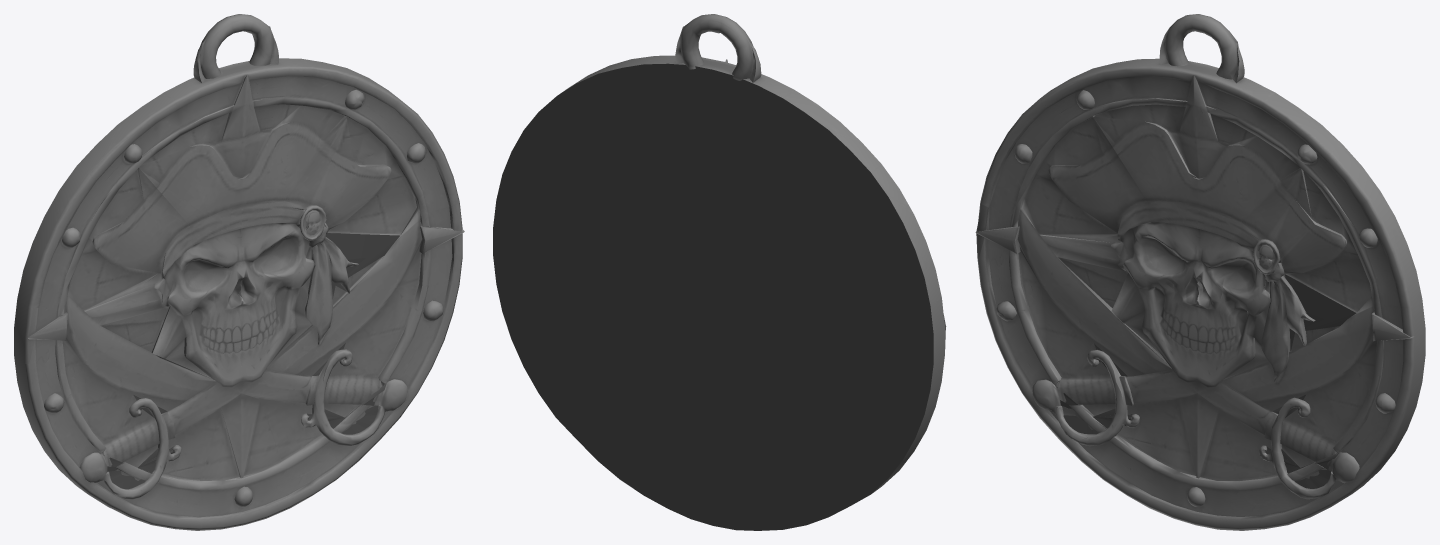
File: iron_korsan.glb
The picture shows the model from 3 angles, left to right: view 1: azimuth 30°, elevation 25°; view 2: azimuth 150°, elevation 25°; view 3: azimuth 330°, elevation 25°; orthographic projection.
Visible parts, largest first — view 1: iron_korsan_AO_candidate; view 2: iron_korsan_AO_candidate; view 3: iron_korsan_AO_candidate.
Part boxes in pixels (x1,y1,x2,y2): iron_korsan_AO_candidate: (14, 14, 464, 530); iron_korsan_AO_candidate: (493, 14, 946, 530); iron_korsan_AO_candidate: (975, 14, 1425, 530).
Size of the model in its own units: 0.9081 by 1 by 0.0533.
Materials: 1 (1 with a texture image).
